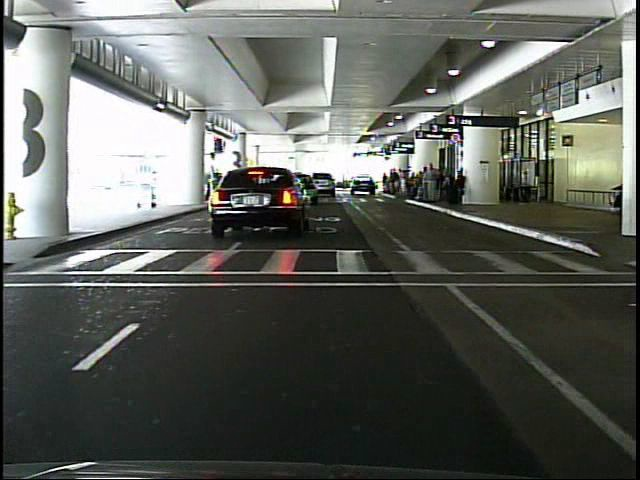person: (423, 158, 443, 208)
